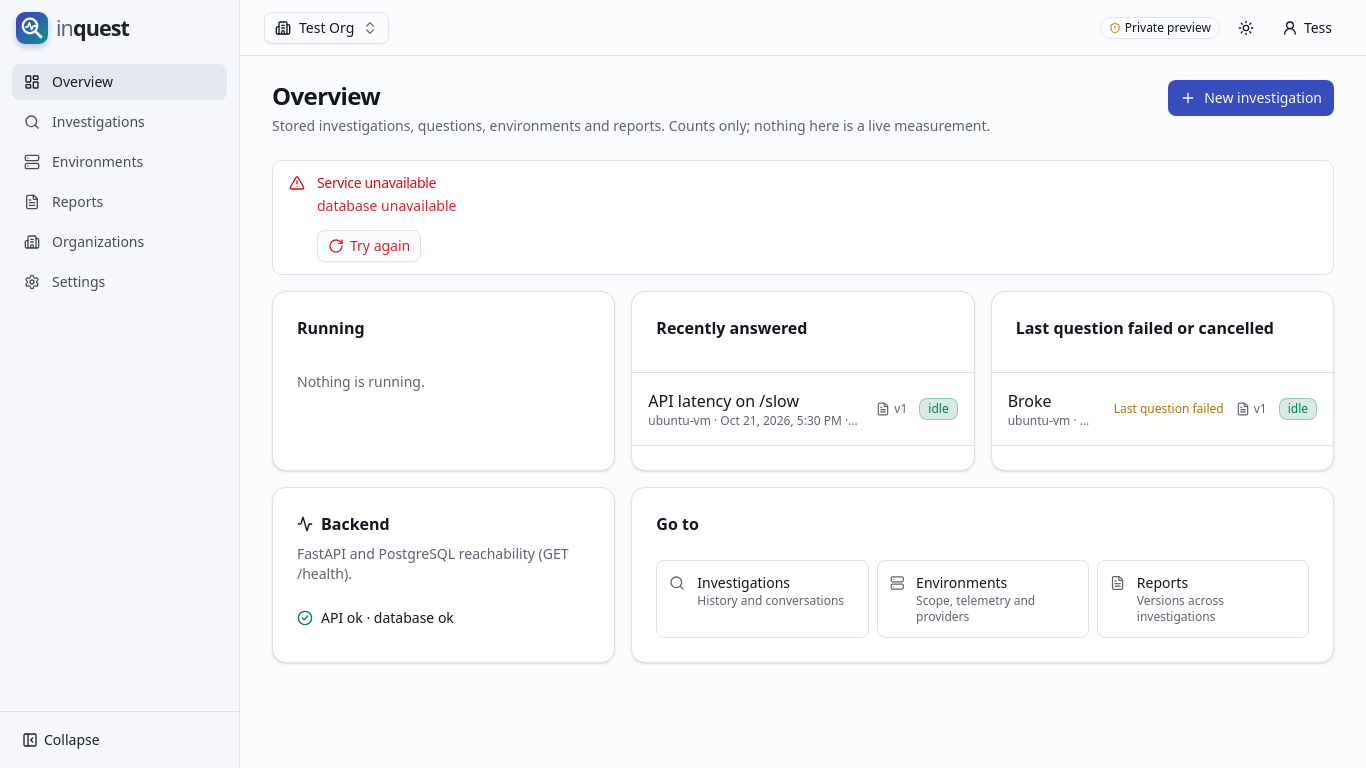
Test: overview dashboard › retries when the counts fail to load
Click the button "Try again" at (369, 246), box [317,230,421,262]
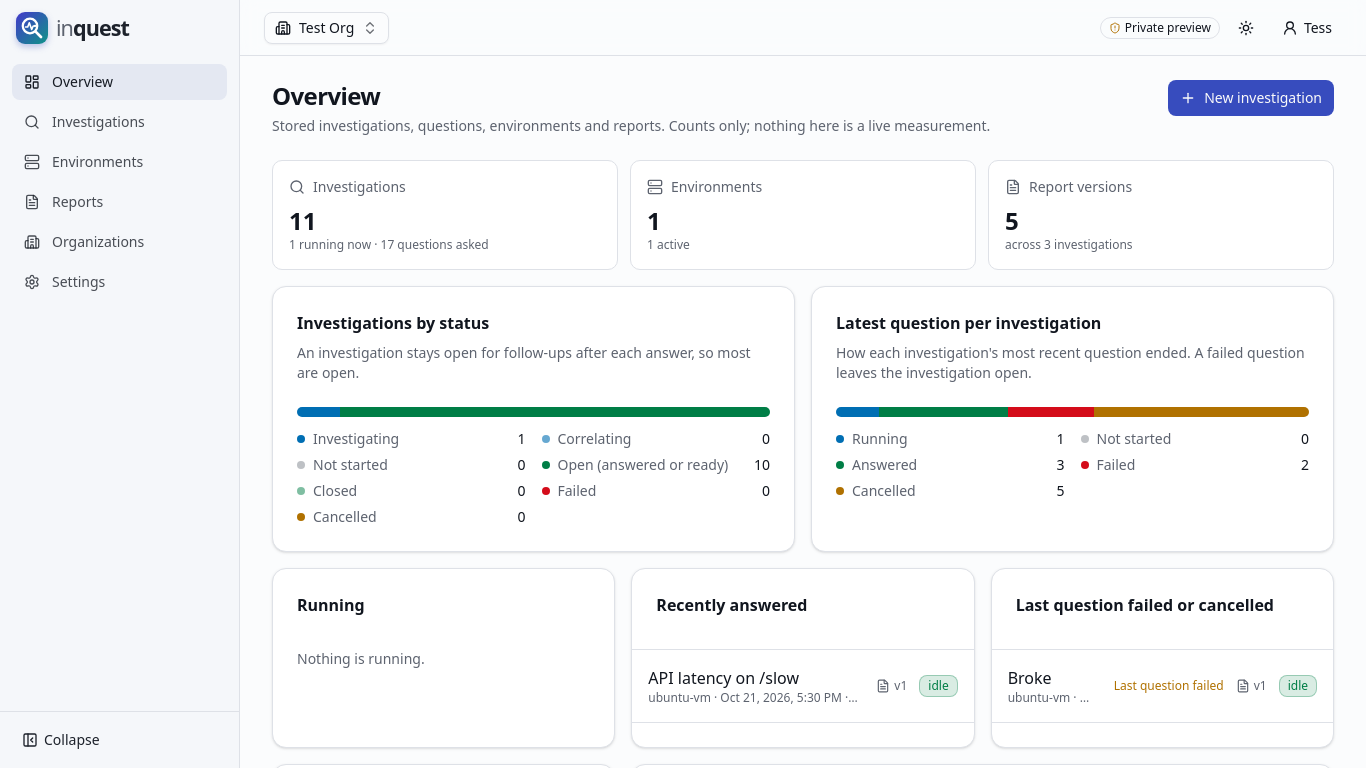
Expected: the link "Investigations 11 1 running now · 17 questions asked" is shown, [272,160,618,270]
